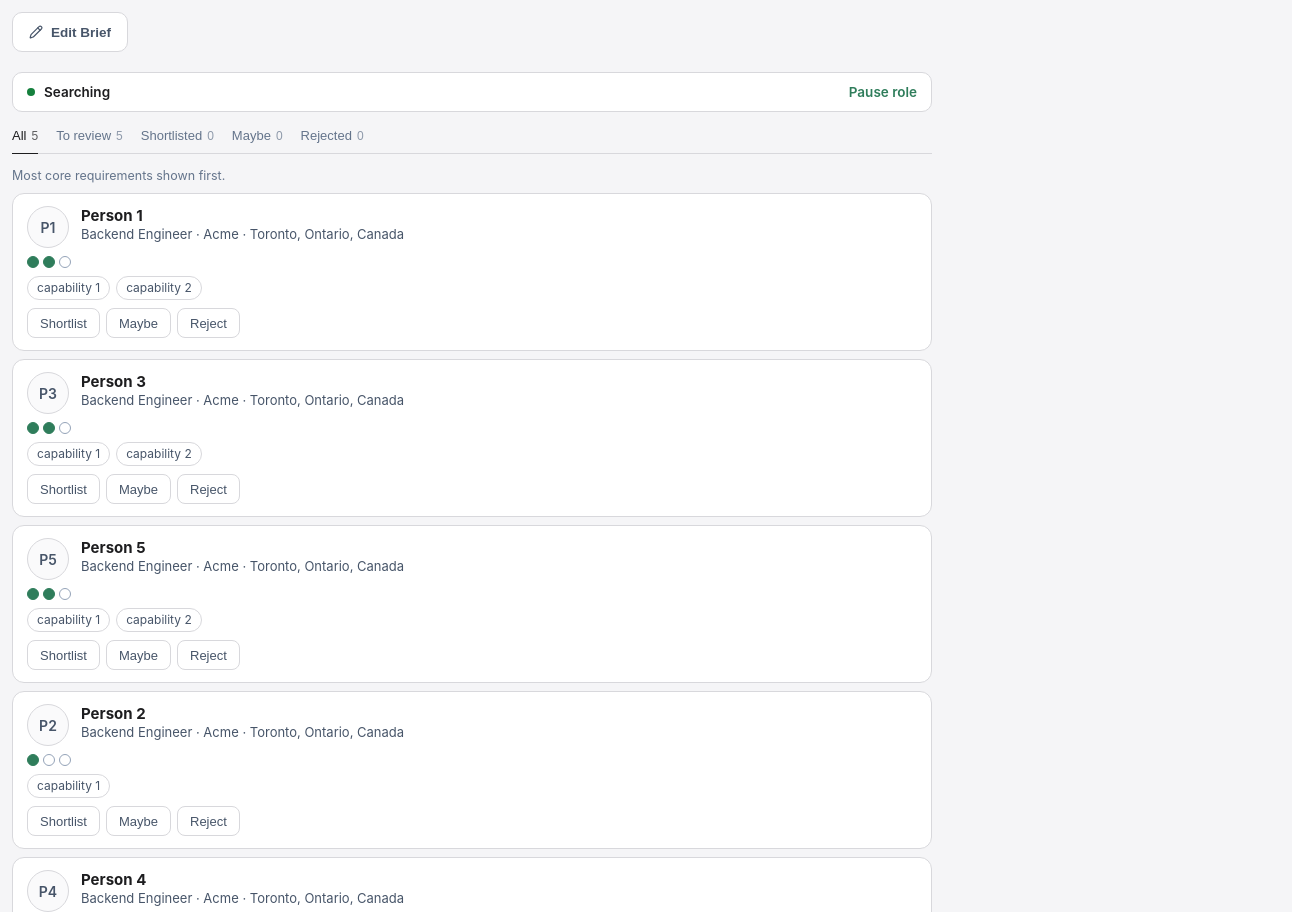
Scenario: the first five and the rest that were read › counts what is still to review as decisions are made
Click the button "Shortlist" below "P1" at (64, 323), box [27,308,100,338]
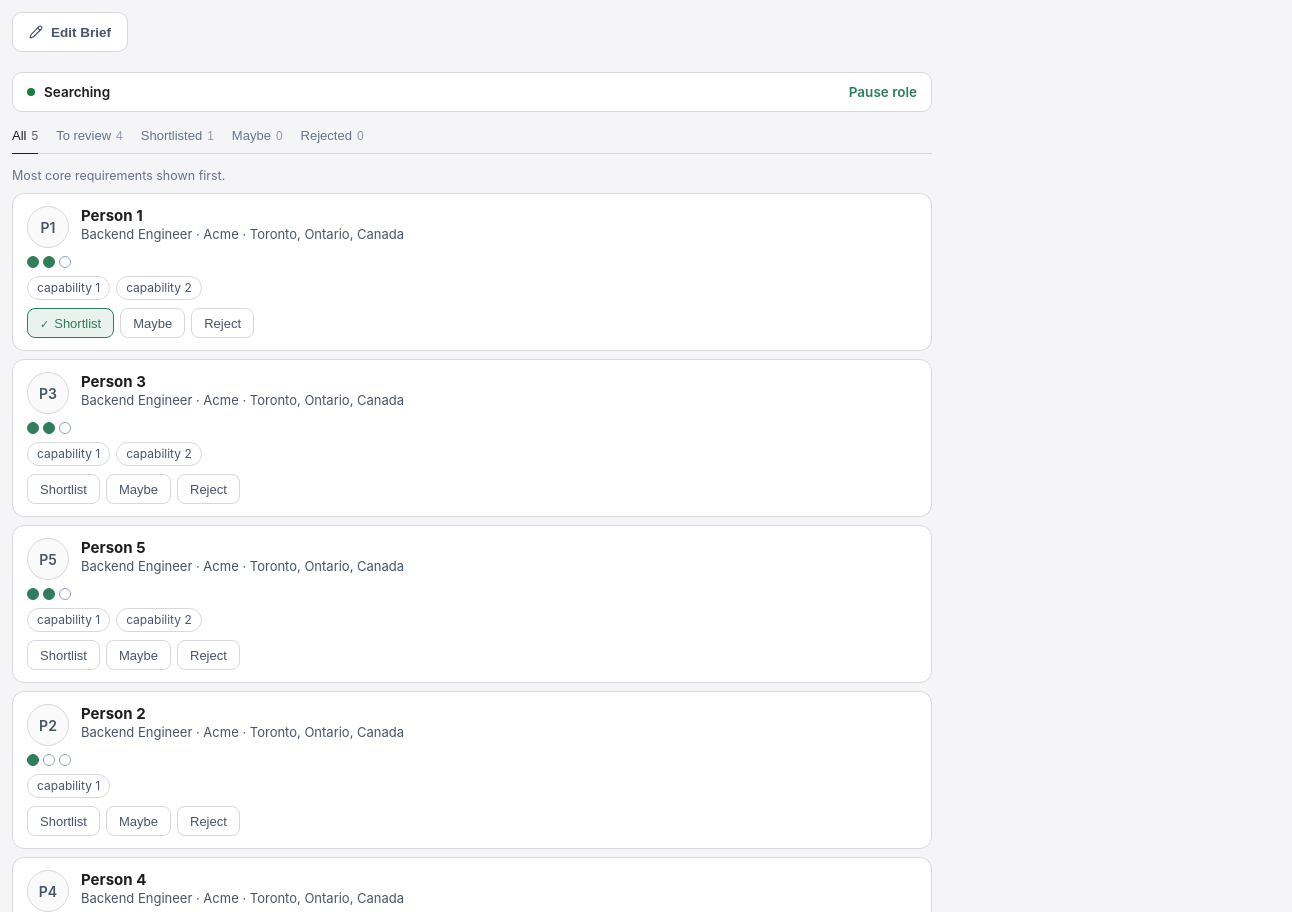
Expected: the text with class "ws-filter__count" reads "4", [116,129,123,143]
